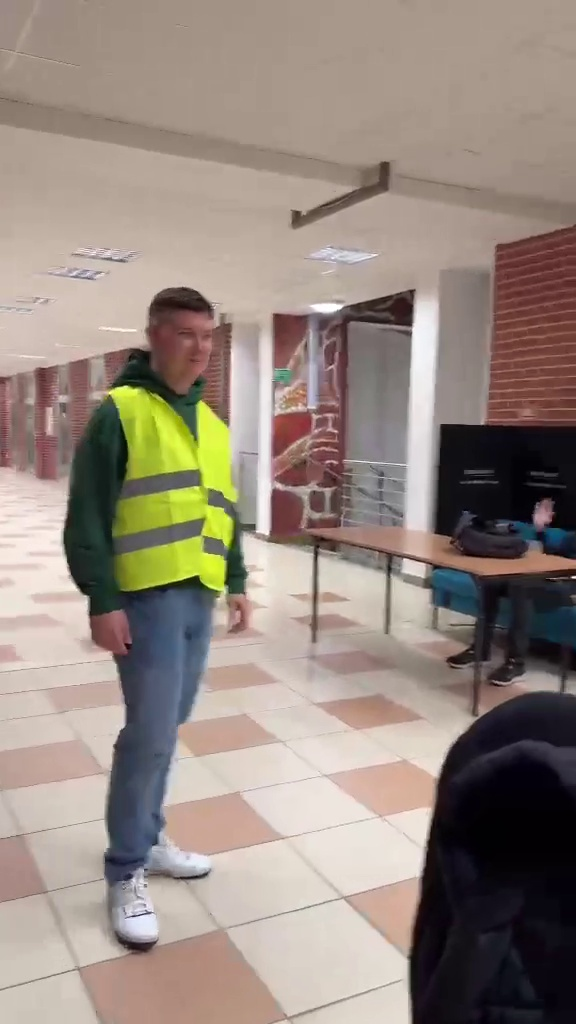vest: (62, 286, 247, 949)
